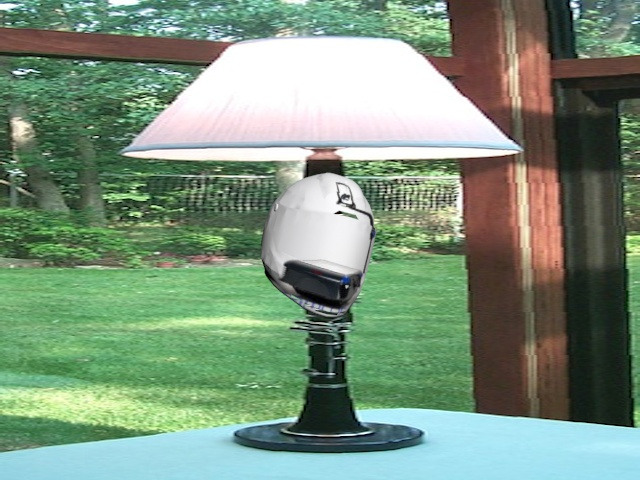bike_helmet: (257, 169, 385, 321)
